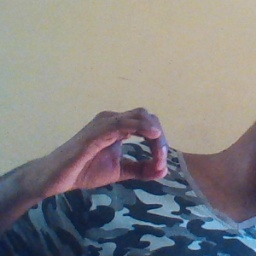O: (53, 99, 176, 198)
